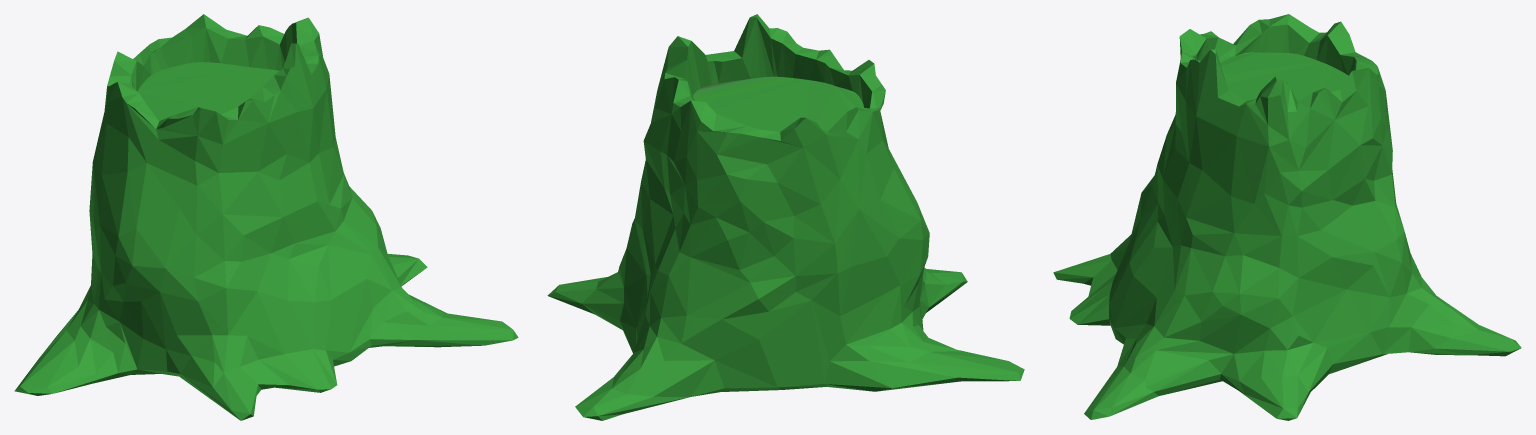
Rendered from Trunk.obj.
The picture shows the model from 3 angles, left to right: view 1: azimuth 30°, elevation 25°; view 2: azimuth 150°, elevation 25°; view 3: azimuth 270°, elevation 25°; orthographic projection.
Parts seen in each view (by area): view 1: trunk; view 2: trunk; view 3: trunk.
Boxes of the visible parts, bbox=[...] form: trunk: bbox=[14, 14, 518, 420]; trunk: bbox=[547, 14, 1024, 420]; trunk: bbox=[1053, 14, 1521, 420].
Size of the model in its own units: 89.99 by 58.71 by 83.57.
Materials: 1 (1 with a texture image).
